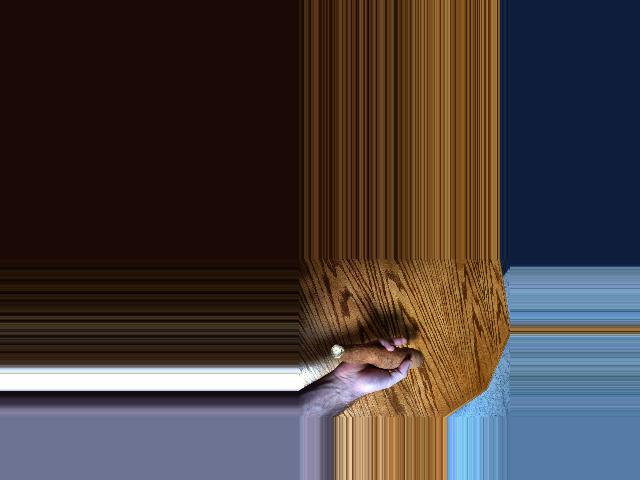sweet_potato: (327, 340, 428, 364)
